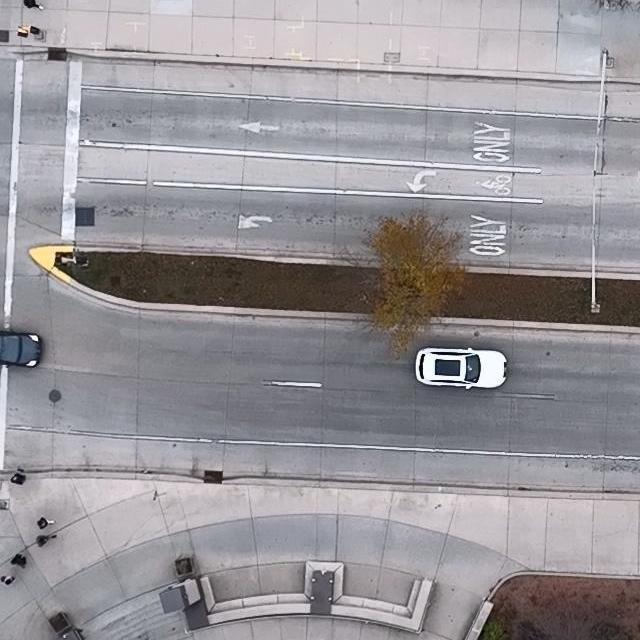car: (415, 346, 508, 390), (0, 328, 42, 368)
